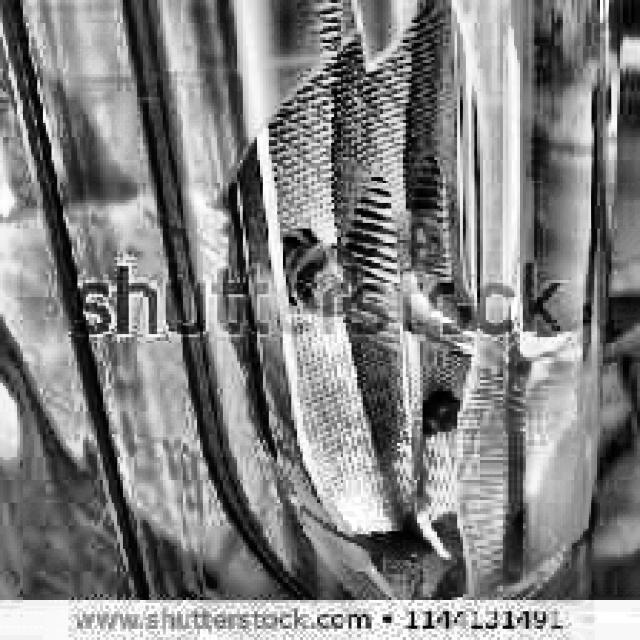tail_lamp: (215, 38, 463, 593)
